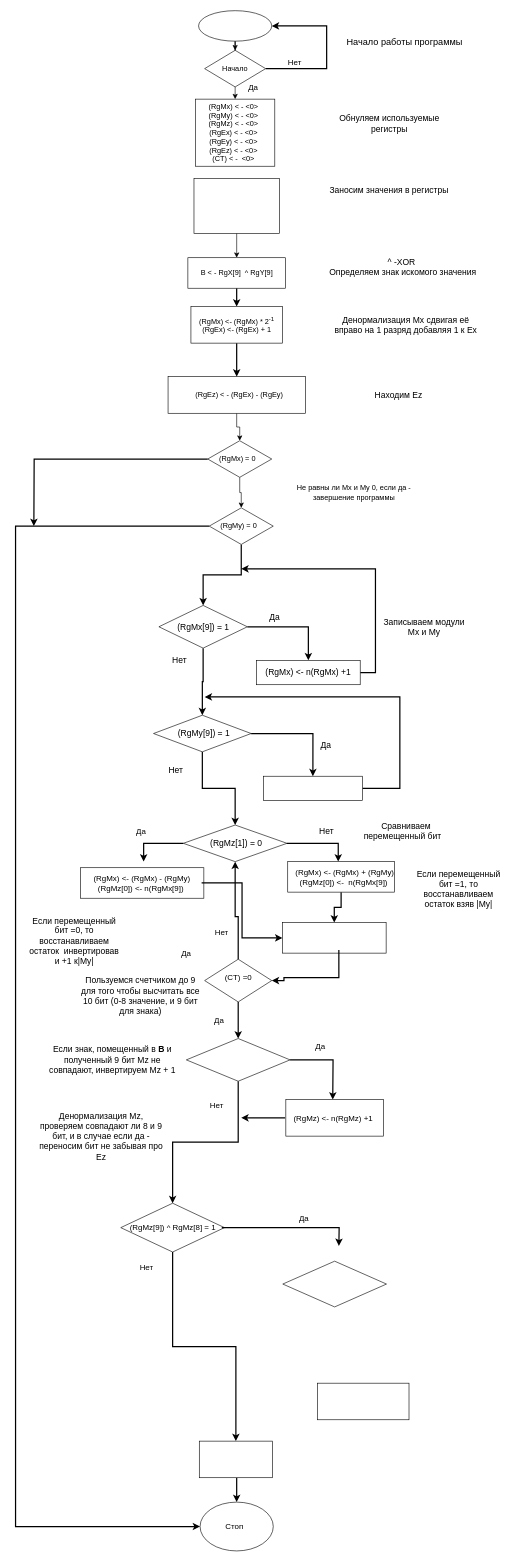
This 515x1562 diagram has some shape labels left out. The centre of each missing label's shape, as x and y in pixels:
"(RgEz)" belongs at (334,1284).
"(RgMx) < - <X> (RgMy) < - <Y> (RgEx) < - <EX> (RgEy) < - <EY> (CT) < - <10>" belongs at (236,205).
"(RgMy) <- n(RgMy) +1" belongs at (312,788).
"(RgMz) <- (RgMz) * 2 (CT) <- (CT) -1" belongs at (334,937).
"(RgMz) <- (RgMz) *2 (RgEz) <- (RgEz)-1" belongs at (363,1401).
"(RgMz[9]) ^ B =1" belongs at (238,1059).
"MD <- (RgMz) MD <- (RgEz)" belongs at (235,1459).
"Старт" belongs at (235,25).
